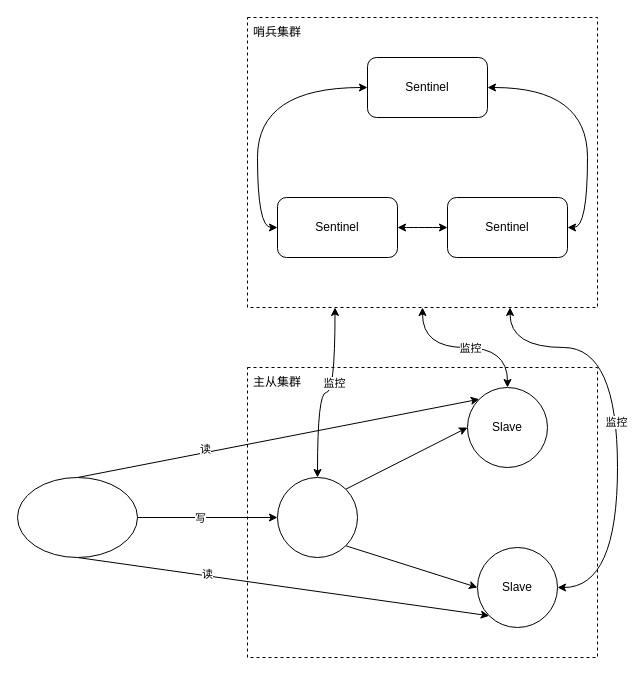
This 644x675 diagram has some shape labels left out. The centre of each missing label's shape, as x and y in pixels:
"Master" goes at point 317,517.
"客户端" goes at point 77,517.
